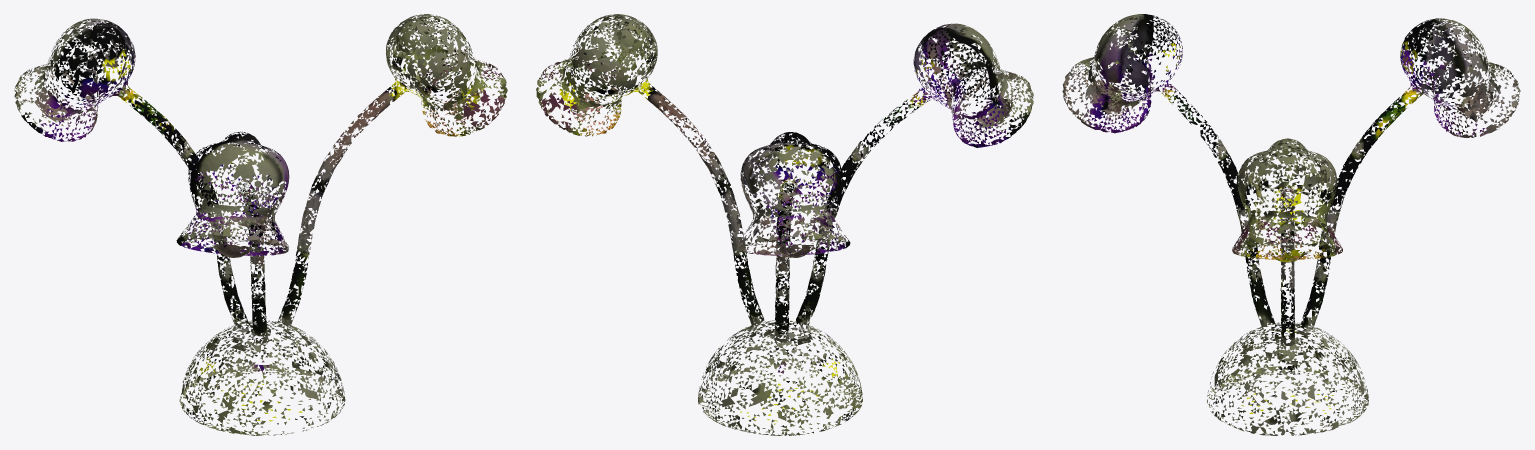
Rendered from lamp_final900.obj.
3 views of the same model, side by side, from view 1: azimuth 30°, elevation 25°; view 2: azimuth 150°, elevation 25°; view 3: azimuth 270°, elevation 25° (orthographic).
Bounding box in the file's own units: 1.59 × 1.32 × 1.62.
